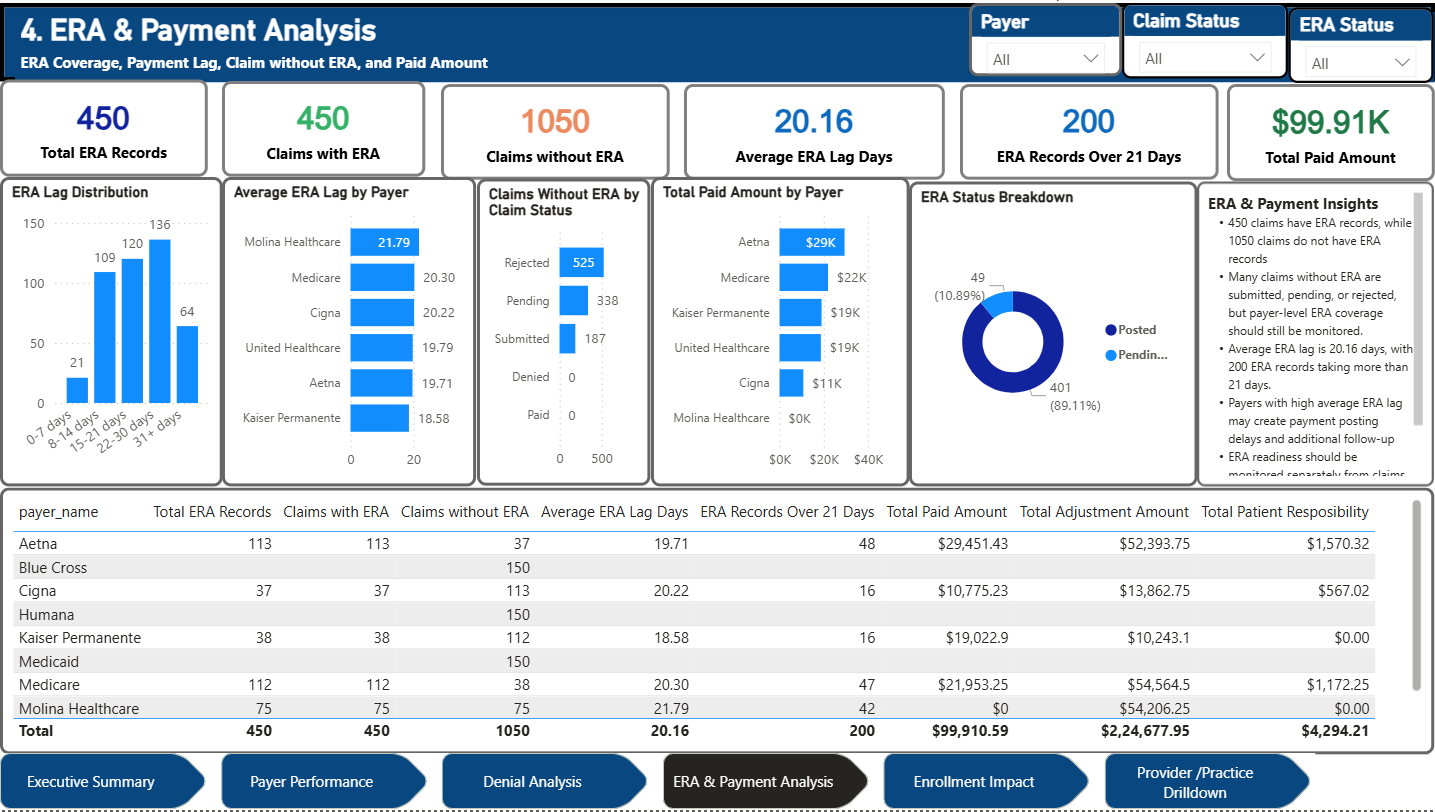

What the dashboard file says about the page in this screenshot:
{"tool":"powerbi","page":{"name":"ERA & Payment Analysis ","canvas":[1280,720],"ordinal":3},"visuals":[{"type":"shape","box":[0,0,1280,70],"z":0},{"type":"textbox","title":"4. ERA & Payment Analysis","box":[13.2,7.6,1266.2,62.4],"z":1},{"type":"slicer","title":"Claim Status","fields":{"Values":["fact_claims.claim_status"]},"box":[1001.4,0,148.3,67.4],"z":3},{"type":"slicer","title":"ERA Status","fields":{"Values":["fact_era.era_status"]},"box":[1149.7,3.9,129,67.4],"z":4},{"type":"card","fields":{"Values":["_Measures.Total ERA Records"]},"box":[0,68,185.2,86.9],"z":5},{"type":"card","fields":{"Values":["_Measures.Claims with ERA"]},"box":[198.4,69.9,181.4,85],"z":6},{"type":"card","fields":{"Values":["_Measures.Claims without ERA"]},"box":[393.1,71.8,204.1,85],"z":7},{"type":"card","fields":{"Values":["_Measures.Average ERA Lag Days"]},"box":[610.4,71.8,232.4,85],"z":8},{"type":"card","fields":{"Values":["_Measures.ERA Records Over 21 Days"]},"box":[856.1,71.8,230.6,85],"z":9},{"type":"card","fields":{"Values":["_Measures.Total Paid Amount"]},"box":[1094.2,71.8,185.2,86.9],"z":10},{"type":"clusteredColumnChart","title":"ERA Lag Distribution","fields":{"Category":["fact_era.ERA Lag Bucket"],"Y":["_Measures.Total ERA Records"]},"box":[0,155,198.4,275.9],"z":11},{"type":"clusteredBarChart","title":"Average ERA Lag by Payer","fields":{"Category":["dim_payer.payer_name"],"Y":["_Measures.Average ERA Lag Days"]},"box":[198.4,155,226.8,275.9],"z":12},{"type":"tableEx","fields":{"Values":["dim_payer.payer_name","_Measures.Total ERA Records","_Measures.Claims with ERA","_Measures.Claims without ERA","_Measures.Average ERA Lag Days","_Measures.ERA Records Over 21 Days","_Measures.Total Paid Amount","_Measures.Total Adjustment Amount","_Measures.Total Patient Resposibility"]},"box":[0,431.5,1279.5,237.7],"z":13},{"type":"clusteredBarChart","title":"Claims Without ERA by Claim Status","fields":{"Category":["fact_claims.claim_status"],"Y":["_Measures.Claims without ERA"]},"box":[425.2,156.9,155,274],"z":14},{"type":"clusteredBarChart","title":"Total Paid Amount by Payer","fields":{"Category":["dim_payer.payer_name"],"Y":["_Measures.Total Paid Amount"]},"box":[580.2,155,230.6,275.9],"z":15},{"type":"donutChart","title":"ERA Status Breakdown","fields":{"Category":["fact_era.era_status"],"Y":["_Measures.Total ERA Records"]},"box":[810.7,158.7,257,272.1],"z":16},{"type":"textbox","box":[1067.7,158.7,211.7,272.1],"z":17},{"type":"pageNavigator","box":[0,669.5,1173.2,50.5],"z":18},{"type":"slicer","title":"Payer","fields":{"Values":["dim_payer.payer_name"]},"box":[864.7,0,136.7,65.5],"z":20}]}

Visuals, with their boxes in screenshot pixels (x1, y1, x2, y2), scaled from the page's 1280x720 canvas onto the 1435x812 screenshot:
shape: BBox(0, 0, 1434, 79)
"4. ERA & Payment Analysis" textbox: BBox(15, 9, 1434, 79)
"Claim Status" slicer: BBox(1123, 0, 1289, 76)
"ERA Status" slicer: BBox(1289, 4, 1434, 80)
card - _Measures.Total ERA Records: BBox(0, 77, 208, 175)
card - _Measures.Claims with ERA: BBox(222, 79, 426, 175)
card - _Measures.Claims without ERA: BBox(441, 81, 670, 177)
card - _Measures.Average ERA Lag Days: BBox(684, 81, 945, 177)
card - _Measures.ERA Records Over 21 Days: BBox(960, 81, 1218, 177)
card - _Measures.Total Paid Amount: BBox(1227, 81, 1434, 179)
"ERA Lag Distribution" clusteredColumnChart: BBox(0, 175, 222, 486)
"Average ERA Lag by Payer" clusteredBarChart: BBox(222, 175, 477, 486)
tableEx - dim_payer.payer_name x _Measures.Total ERA Records: BBox(0, 487, 1434, 755)
"Claims Without ERA by Claim Status" clusteredBarChart: BBox(477, 177, 650, 486)
"Total Paid Amount by Payer" clusteredBarChart: BBox(650, 175, 909, 486)
"ERA Status Breakdown" donutChart: BBox(909, 179, 1197, 486)
textbox: BBox(1197, 179, 1434, 486)
pageNavigator: BBox(0, 755, 1315, 811)
"Payer" slicer: BBox(969, 0, 1123, 74)
